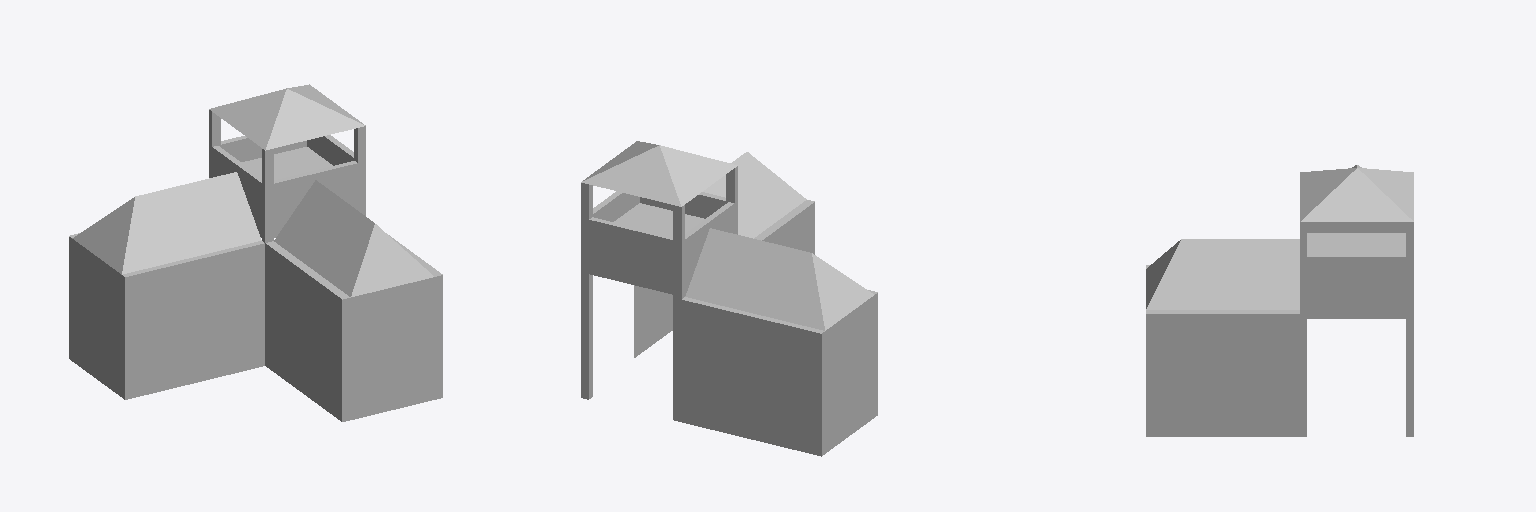
The model's file is town_hall.obj.
The picture shows the model from 3 angles: view 1: azimuth 30°, elevation 25°; view 2: azimuth 150°, elevation 25°; view 3: azimuth 270°, elevation 25°; orthographic projection.
Parts seen in each view (by area): view 1: Cube.001; view 2: Cube.001; view 3: Cube.001.
Part boxes in pixels (bbox=[...]): Cube.001: bbox=[69, 84, 442, 421]; Cube.001: bbox=[581, 141, 877, 456]; Cube.001: bbox=[1146, 165, 1413, 436].
Bounding box in the file's own units: 7.9 × 7.65 × 7.59.